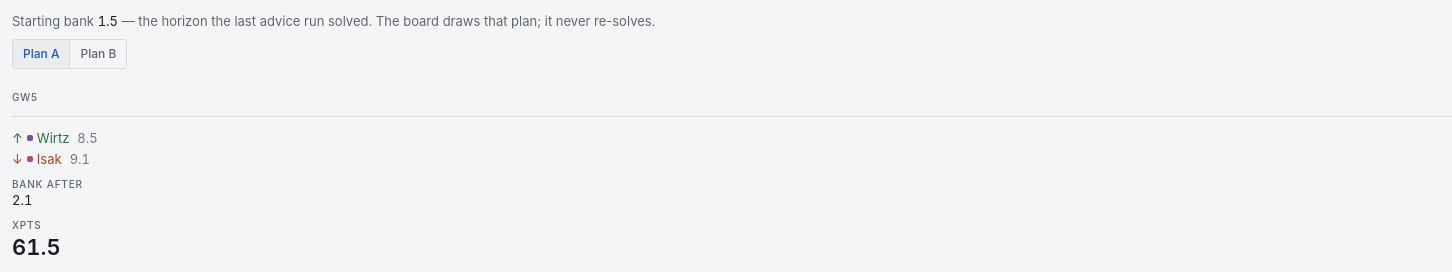
Scenario: PlannerBoard › says an alternative is behind, and by how much, in the right frame
Click the tab "Plan B" at (98, 54), box [70,40,126,68]
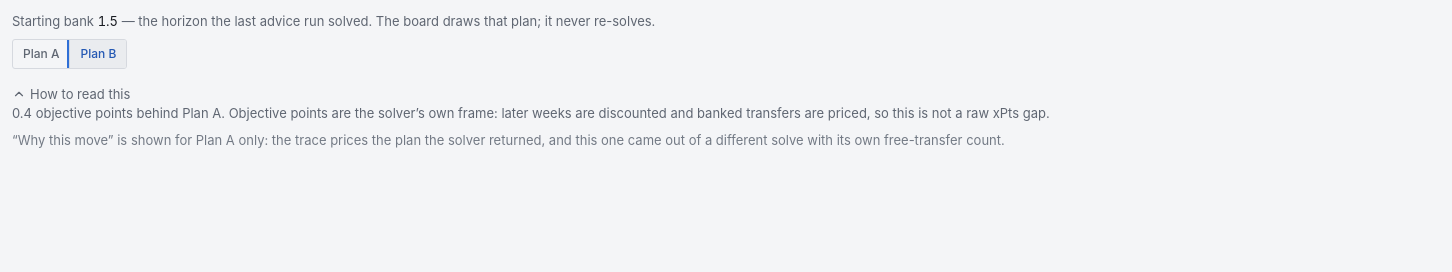
Expected: the text with test id "plan-gap" shows "0.4 objective points behind", [12,105,225,121]
Expected: the text with test id "plan-gap" shows "not a raw xPts gap", [225,105,1050,121]
